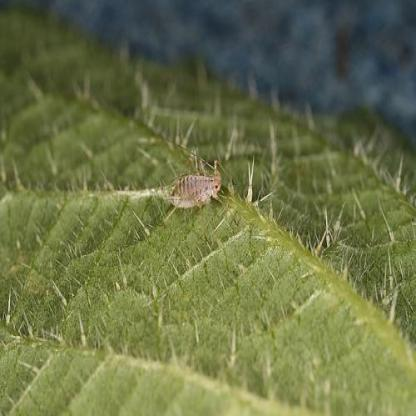aphid: (155, 144, 226, 224)
